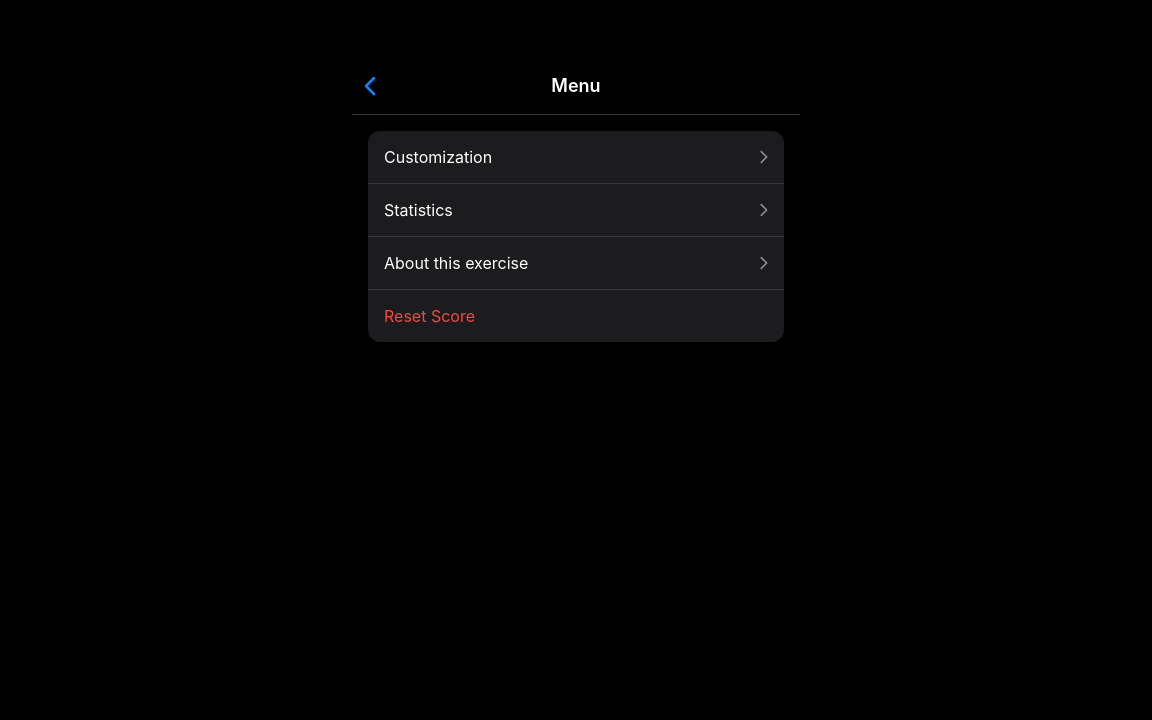
Test case: an empty record › says what to do rather than showing zeroes
The width and height of the screenshot is (1152, 720).
Click the button "Statistics" at (418, 210), box [368,183,784,236]
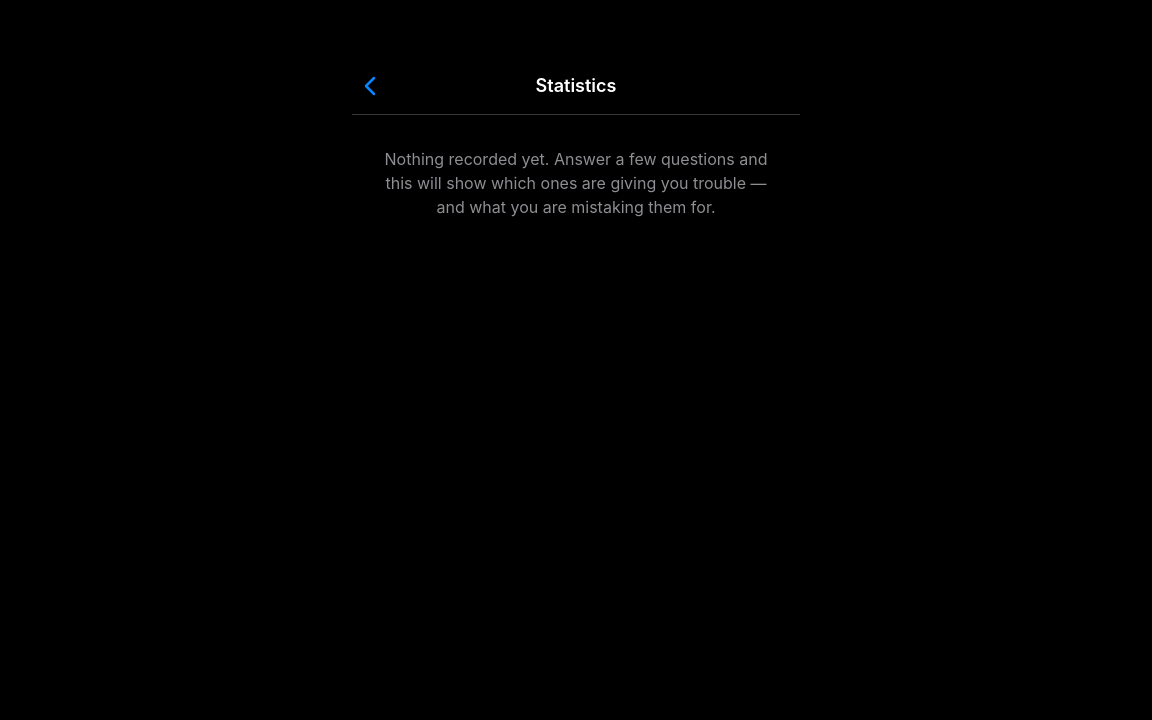
Now the text "Nothing recorded yet" is shown, box [385,149,768,217]
